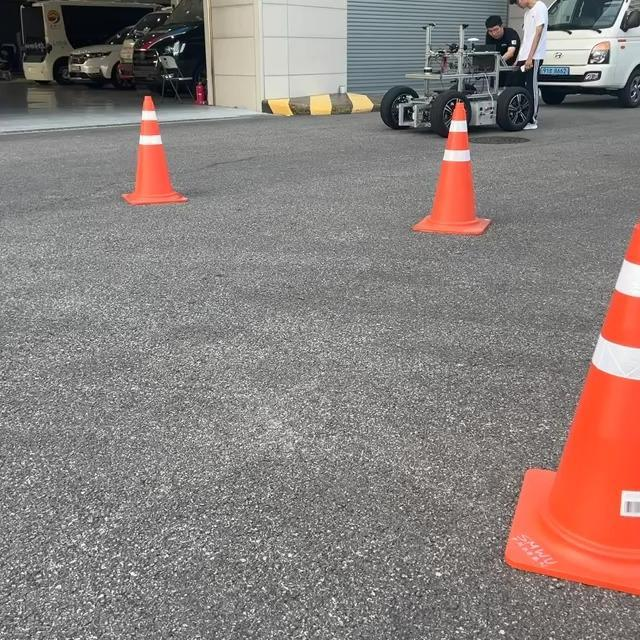fallen_object: (489, 217, 640, 579), (359, 80, 548, 287), (95, 82, 222, 251)
